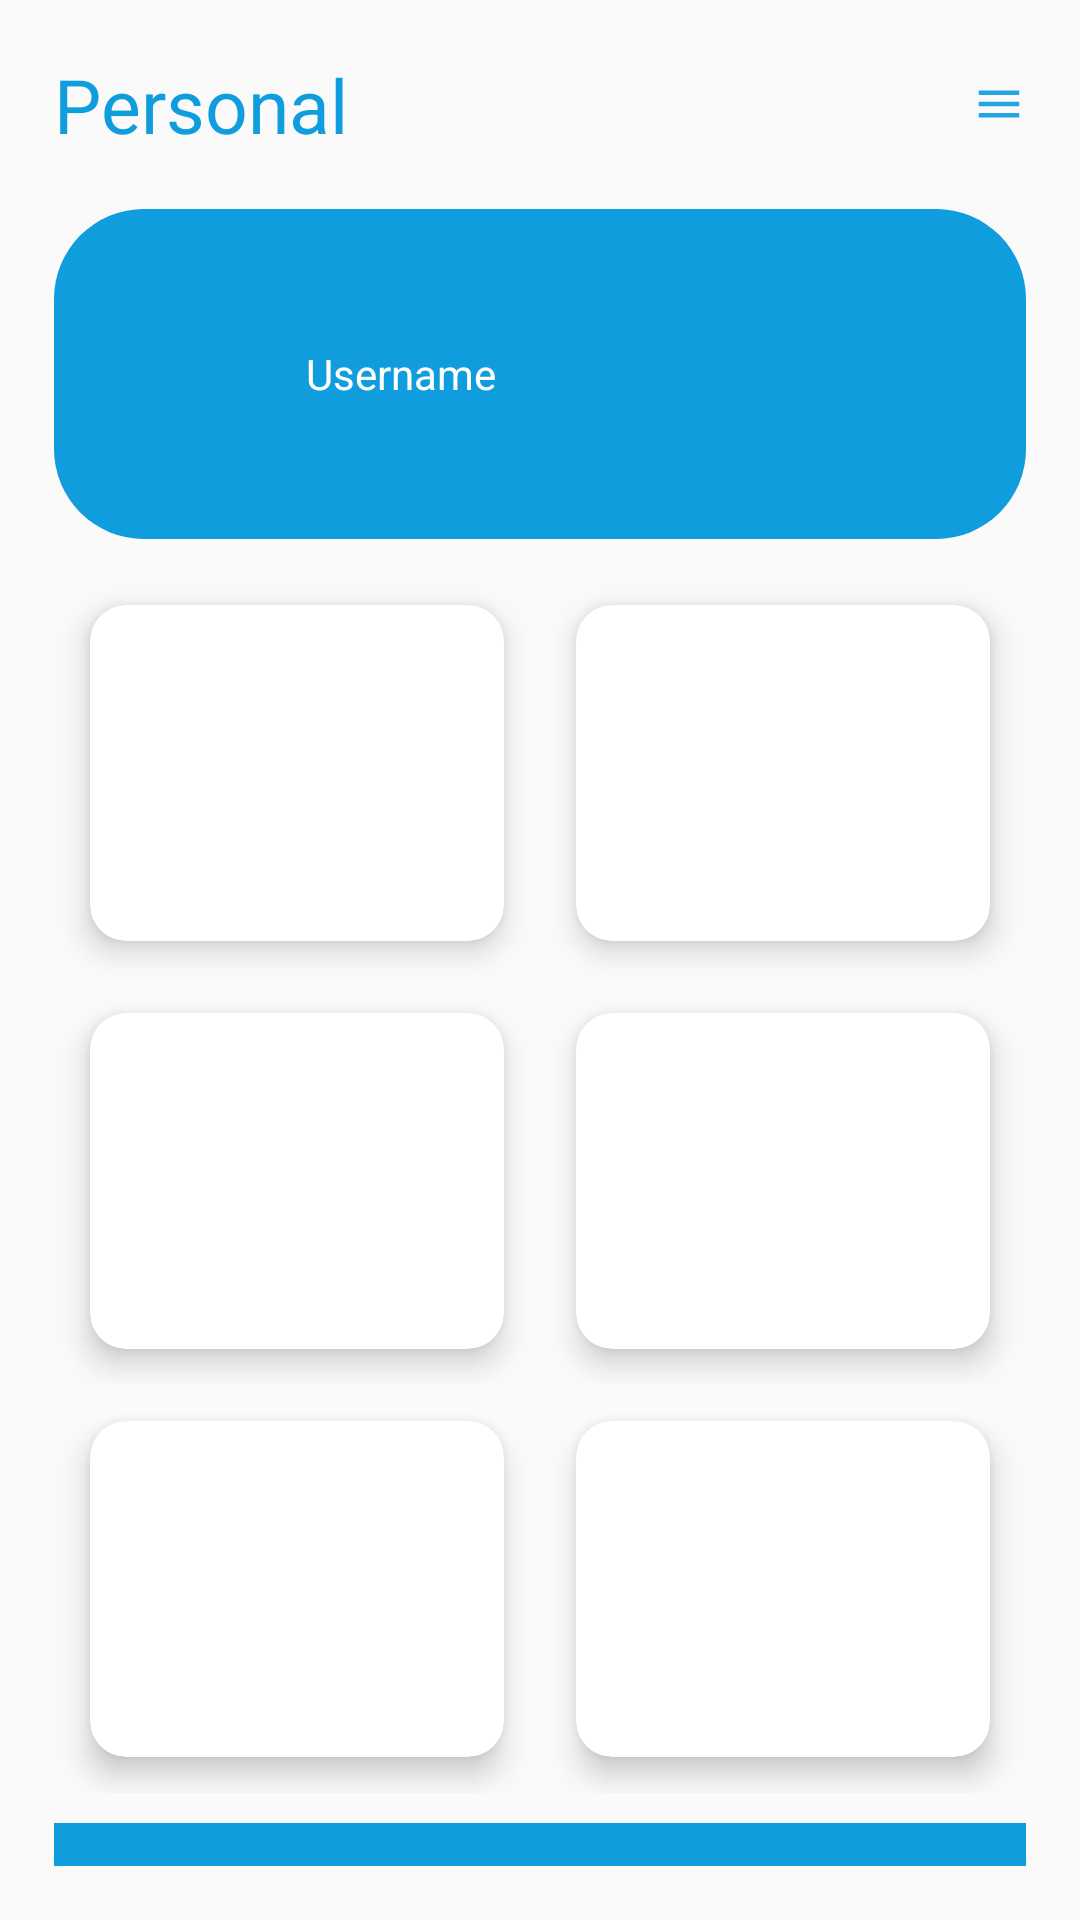

Icon click points for this 1080*1920 phone screenshot, format [x,y]:
menu: [999,104]
